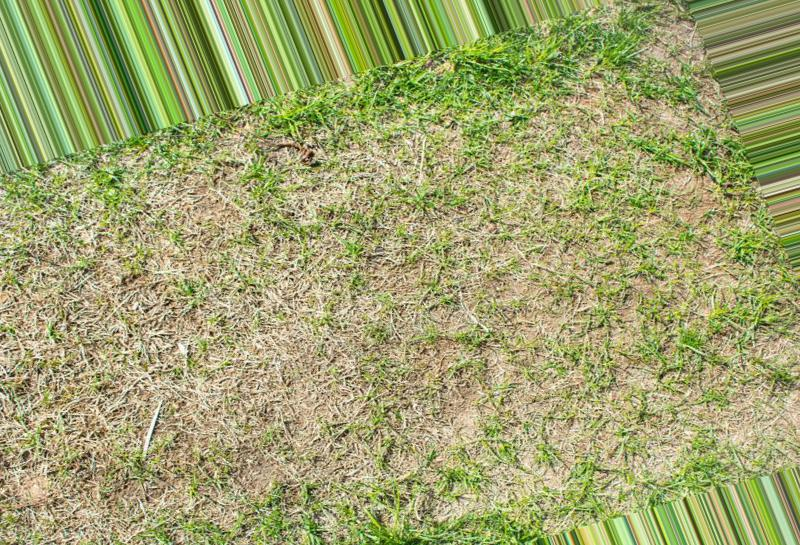patch: (42, 228, 330, 467), (396, 205, 658, 463)
